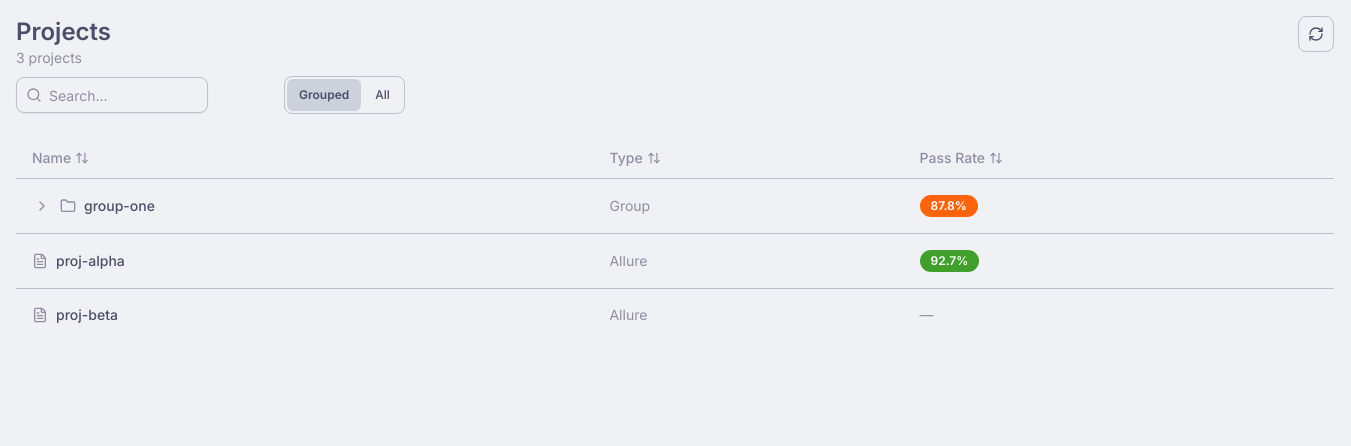
Test: DashboardPage › expands and collapses a group from its chevron, leaving leaf rows without one
Expected: the text "group-one" is shown, [84,196,155,216]
Expected: the text "child-a" is not shown
Click the button named "expand group-one": [42, 206] box [32,196,52,216]
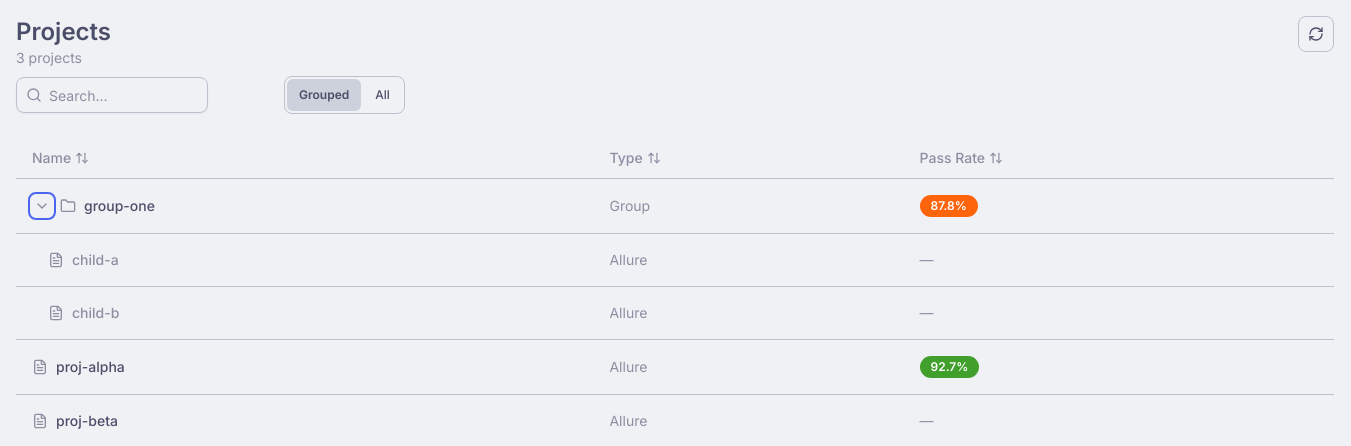
Expected: the link "child-a" is shown, [72,250,119,270]
Expected: the link "child-b" is shown, [72,302,119,322]
Click the button named "expand group-one": [42, 206] box [32,196,52,216]
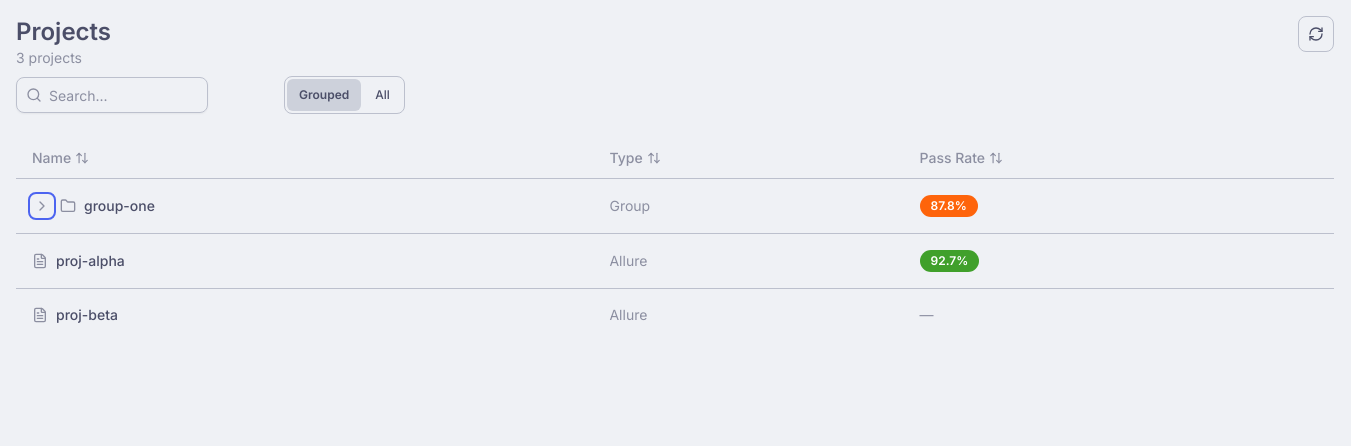
Expected: the link "child-a" is gone
